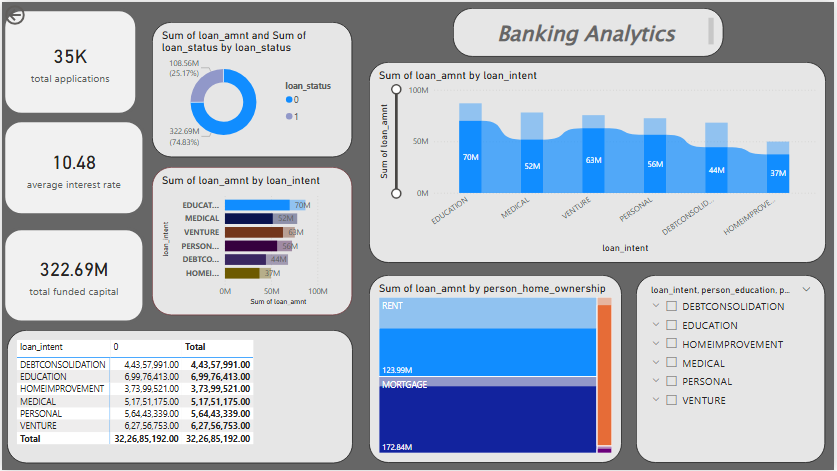

The page's visual inventory and layout, read from the dashboard file:
{"tool":"powerbi","page":{"name":"Page 1","canvas":[1280,720],"ordinal":0},"visuals":[{"type":"card","fields":{"Values":["banking_analytics loan_data.total applications"]},"box":[0,8.7,209.6,166.3],"z":0},{"type":"card","fields":{"Values":["banking_analytics loan_data.total funded capital"]},"box":[0,345.5,221.2,148.9],"z":1000},{"type":"card","fields":{"Values":["banking_analytics loan_data.average interest rate"]},"box":[0,179.3,221.2,150.4],"z":2000},{"type":"clusteredBarChart","fields":{"Category":["banking_analytics loan_data.loan_intent"],"Y":["Sum(banking_analytics loan_data.loan_amnt)"]},"box":[231.3,254.5,308,228.4],"z":3000},{"type":"ribbonChart","fields":{"Category":["banking_analytics loan_data.loan_intent"],"Y":["Sum(banking_analytics loan_data.loan_amnt)"]},"box":[563.9,92.5,702.7,309.4],"z":4000},{"type":"pivotTable","fields":{"Rows":["banking_analytics loan_data.loan_intent"],"Columns":["banking_analytics loan_data.loan_status"],"Values":["Sum(banking_analytics loan_data.loan_amnt)"]},"box":[7.2,504.6,532,205.3],"z":5000},{"type":"actionButton","box":[0,0,100,40],"z":6000},{"type":"slicer","fields":{"Values":["banking_analytics loan_data.loan_intent","banking_analytics loan_data.person_education","banking_analytics loan_data.person_home_ownership"]},"box":[975.9,420.7,290.6,289.2],"z":7000},{"type":"donutChart","fields":{"Y":["Sum(banking_analytics loan_data.loan_amnt)","Sum(banking_analytics loan_data.loan_status)"],"Category":["banking_analytics loan_data.loan_status"]},"box":[231.3,30.4,308,208.2],"z":8000},{"type":"textbox","box":[694,8.7,416.4,75.2],"z":9000},{"type":"treemap","fields":{"Group":["banking_analytics loan_data.person_home_ownership"],"Values":["Sum(banking_analytics loan_data.loan_amnt)"]},"box":[563.9,420.7,388.9,289.2],"z":10000}]}

Visuals, with their boxes in screenshot pixels (x1, y1, x2, y2), scaled from the page's 1280x720 canvas onto the 837x471 screenshot:
card - banking_analytics loan_data.total applications: rect(0, 6, 137, 114)
card - banking_analytics loan_data.total funded capital: rect(0, 226, 145, 323)
card - banking_analytics loan_data.average interest rate: rect(0, 117, 145, 216)
clusteredBarChart - banking_analytics loan_data.loan_intent x Sum(banking_analytics loan_data.loan_amnt): rect(151, 166, 353, 316)
ribbonChart - banking_analytics loan_data.loan_intent x Sum(banking_analytics loan_data.loan_amnt): rect(369, 61, 828, 263)
pivotTable - banking_analytics loan_data.loan_intent x banking_analytics loan_data.loan_status: rect(5, 330, 353, 464)
actionButton: rect(0, 0, 65, 26)
slicer - banking_analytics loan_data.loan_intent x banking_analytics loan_data.person_education: rect(638, 275, 828, 464)
donutChart - Sum(banking_analytics loan_data.loan_amnt) x Sum(banking_analytics loan_data.loan_status): rect(151, 20, 353, 156)
textbox: rect(454, 6, 726, 55)
treemap - banking_analytics loan_data.person_home_ownership x Sum(banking_analytics loan_data.loan_amnt): rect(369, 275, 623, 464)
